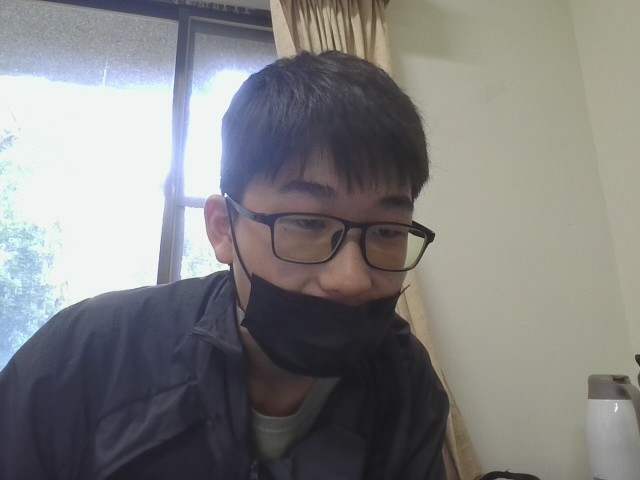No_Helmet: (207, 44, 434, 317)
person: (0, 37, 583, 479)
